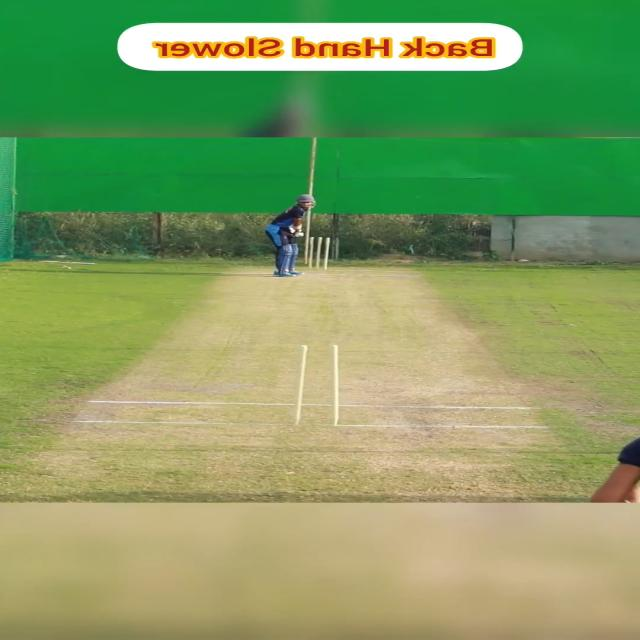stump: (290, 344, 342, 426), (307, 236, 331, 270)
